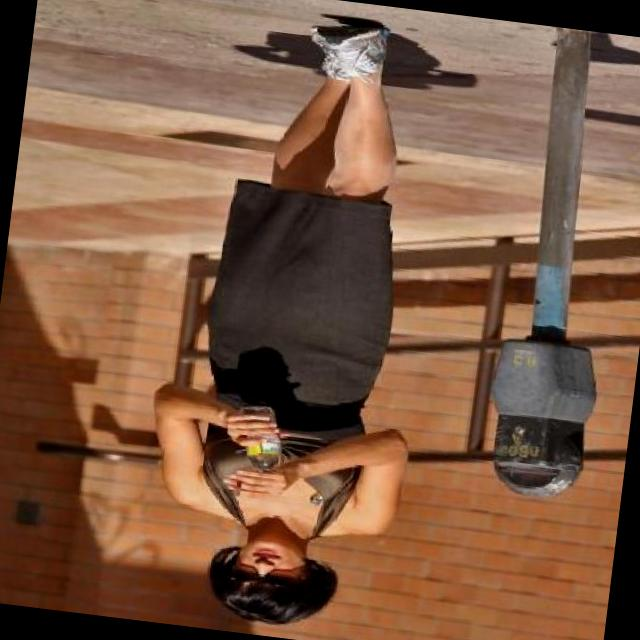smoke: (229, 482, 245, 500)
